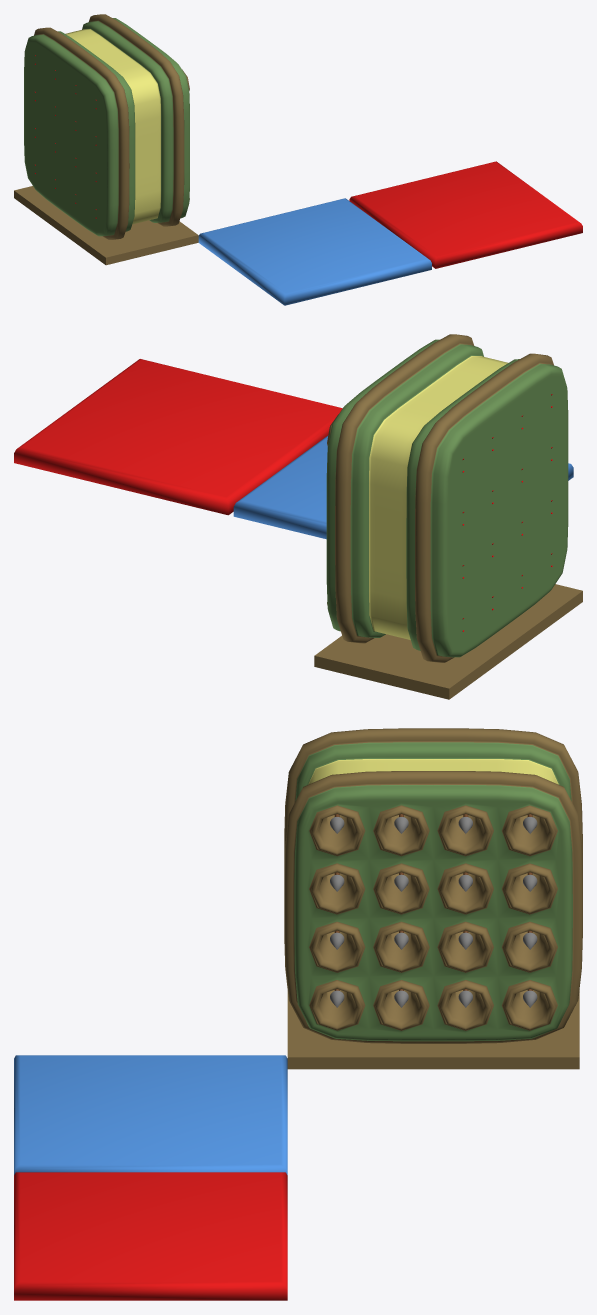
Rendered from oklutuzak.fbx.
3 renders of one model, top to bottom at view 1: azimuth 30°, elevation 25°; view 2: azimuth 150°, elevation 25°; view 3: azimuth 270°, elevation 25°, orthographic. The views are drawn at different scales.
Visible parts, largest first — view 1: Cube; view 2: Cube; view 3: Cube.
Boxes of the visible parts, <box> form: Cube: <box>14,14,582,305</box>; Cube: <box>14,334,582,699</box>; Cube: <box>14,728,582,1300</box>.
Bounding box in the file's own units: 262 × 114 × 208.
